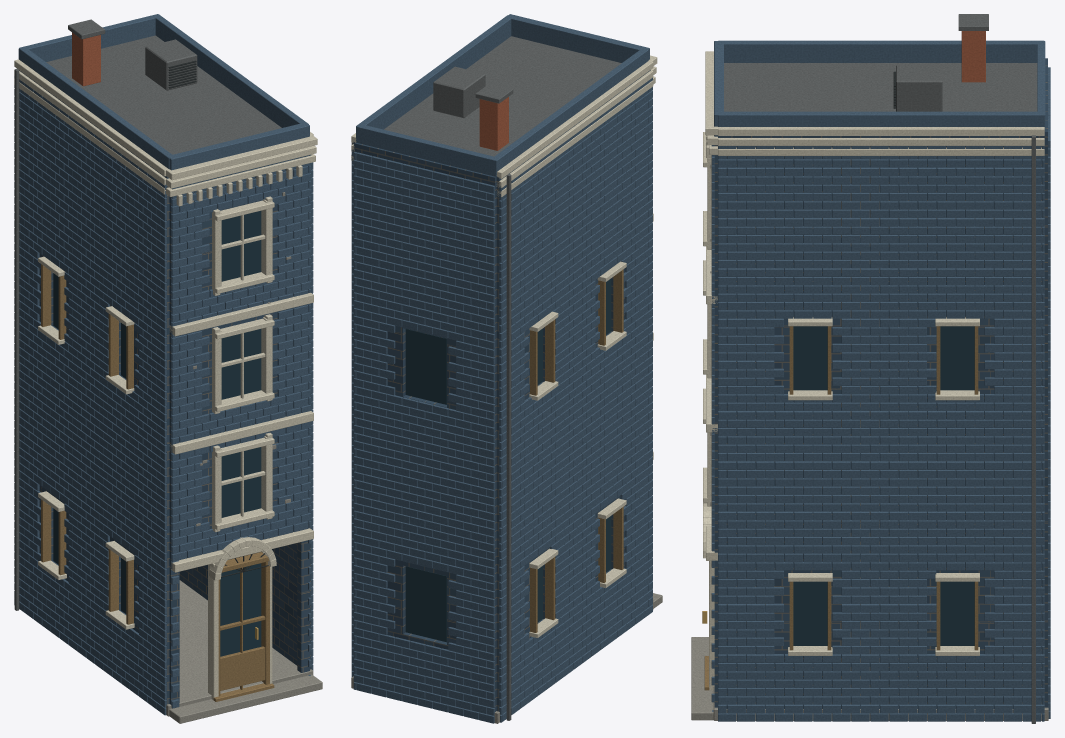
File: OFFC5_lod0.glb
3 renders of one model, left to right at view 1: azimuth 30°, elevation 25°; view 2: azimuth 150°, elevation 25°; view 3: azimuth 270°, elevation 25°, orthographic. The views are drawn at different scales.
Visible parts, largest first — view 1: OFFC5_LOD0; view 2: OFFC5_LOD0; view 3: OFFC5_LOD0.
Boxes of the visible parts, x1,y1,x2,y2 form: OFFC5_LOD0: (14, 14, 322, 723); OFFC5_LOD0: (351, 14, 662, 723); OFFC5_LOD0: (691, 14, 1050, 723).
Size of the model in its own units: 3.71 by 13.05 by 6.6.
Materials: 13 (10 with a texture image).
